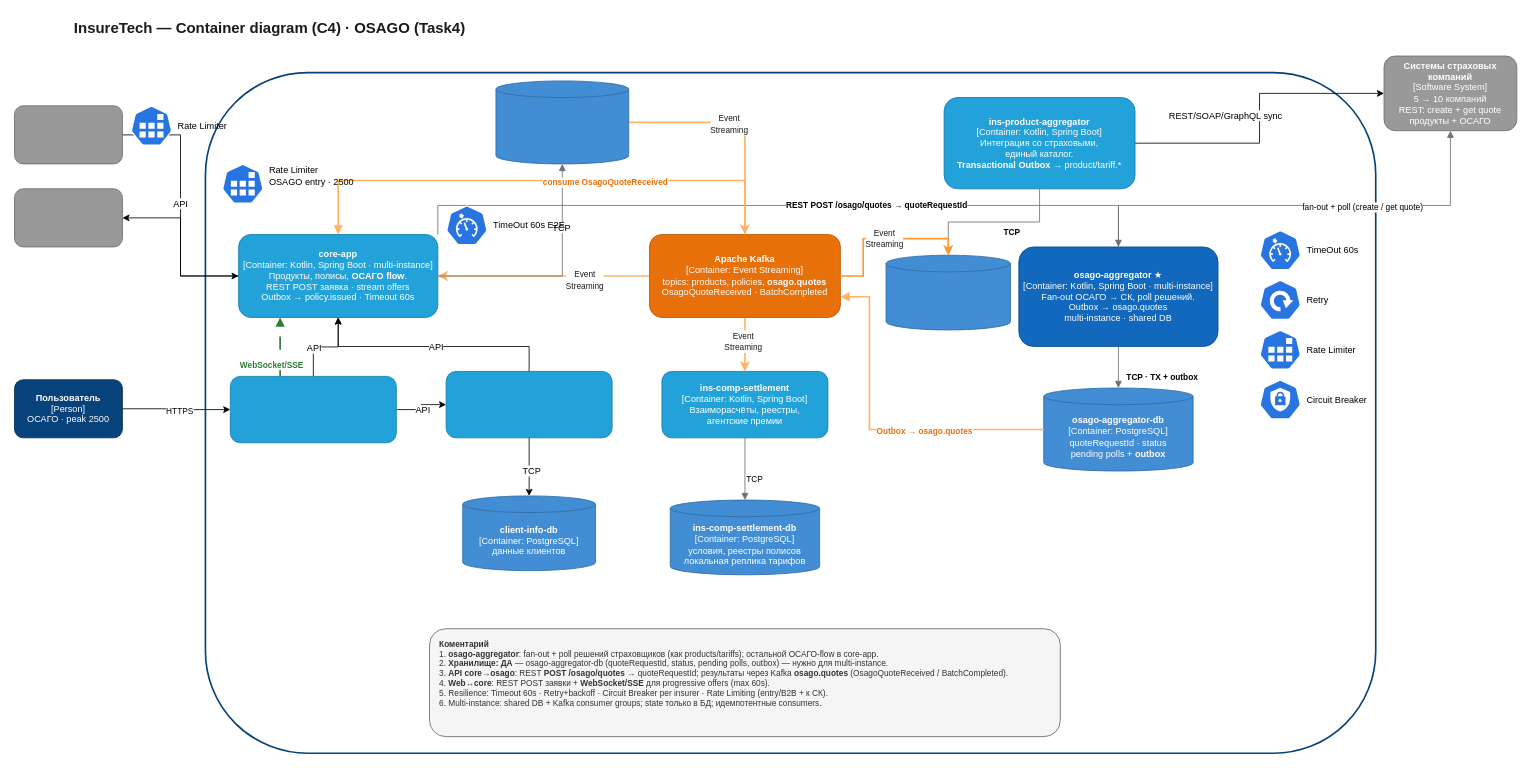
The diagram is 1531 pixels wide and 768 high, and some of its shapes have lost their labels. Each missing label, with the centre of its shape:
"aggregator store [Container: PostgreSQL] снимок каталога + outbox" goes at pixel 948 292.
"client-info [Container: Kotlin, Spring Boot] Клиентские данные, ЛК" goes at pixel 528 404.
"core-db [Container: PostgreSQL] тарифы, заявки, полисы + outbox" goes at pixel 562 122.
"InsureTech Web [Container: JavaScript, React] Сайт + ОСАГО UI progressive offers" goes at pixel 312 409.
"Платёжный сервис [Software System] Оплата полисов" goes at pixel 68 217.
"Системы партнёров [Software System] B2B API-клиенты" goes at pixel 68 134.
